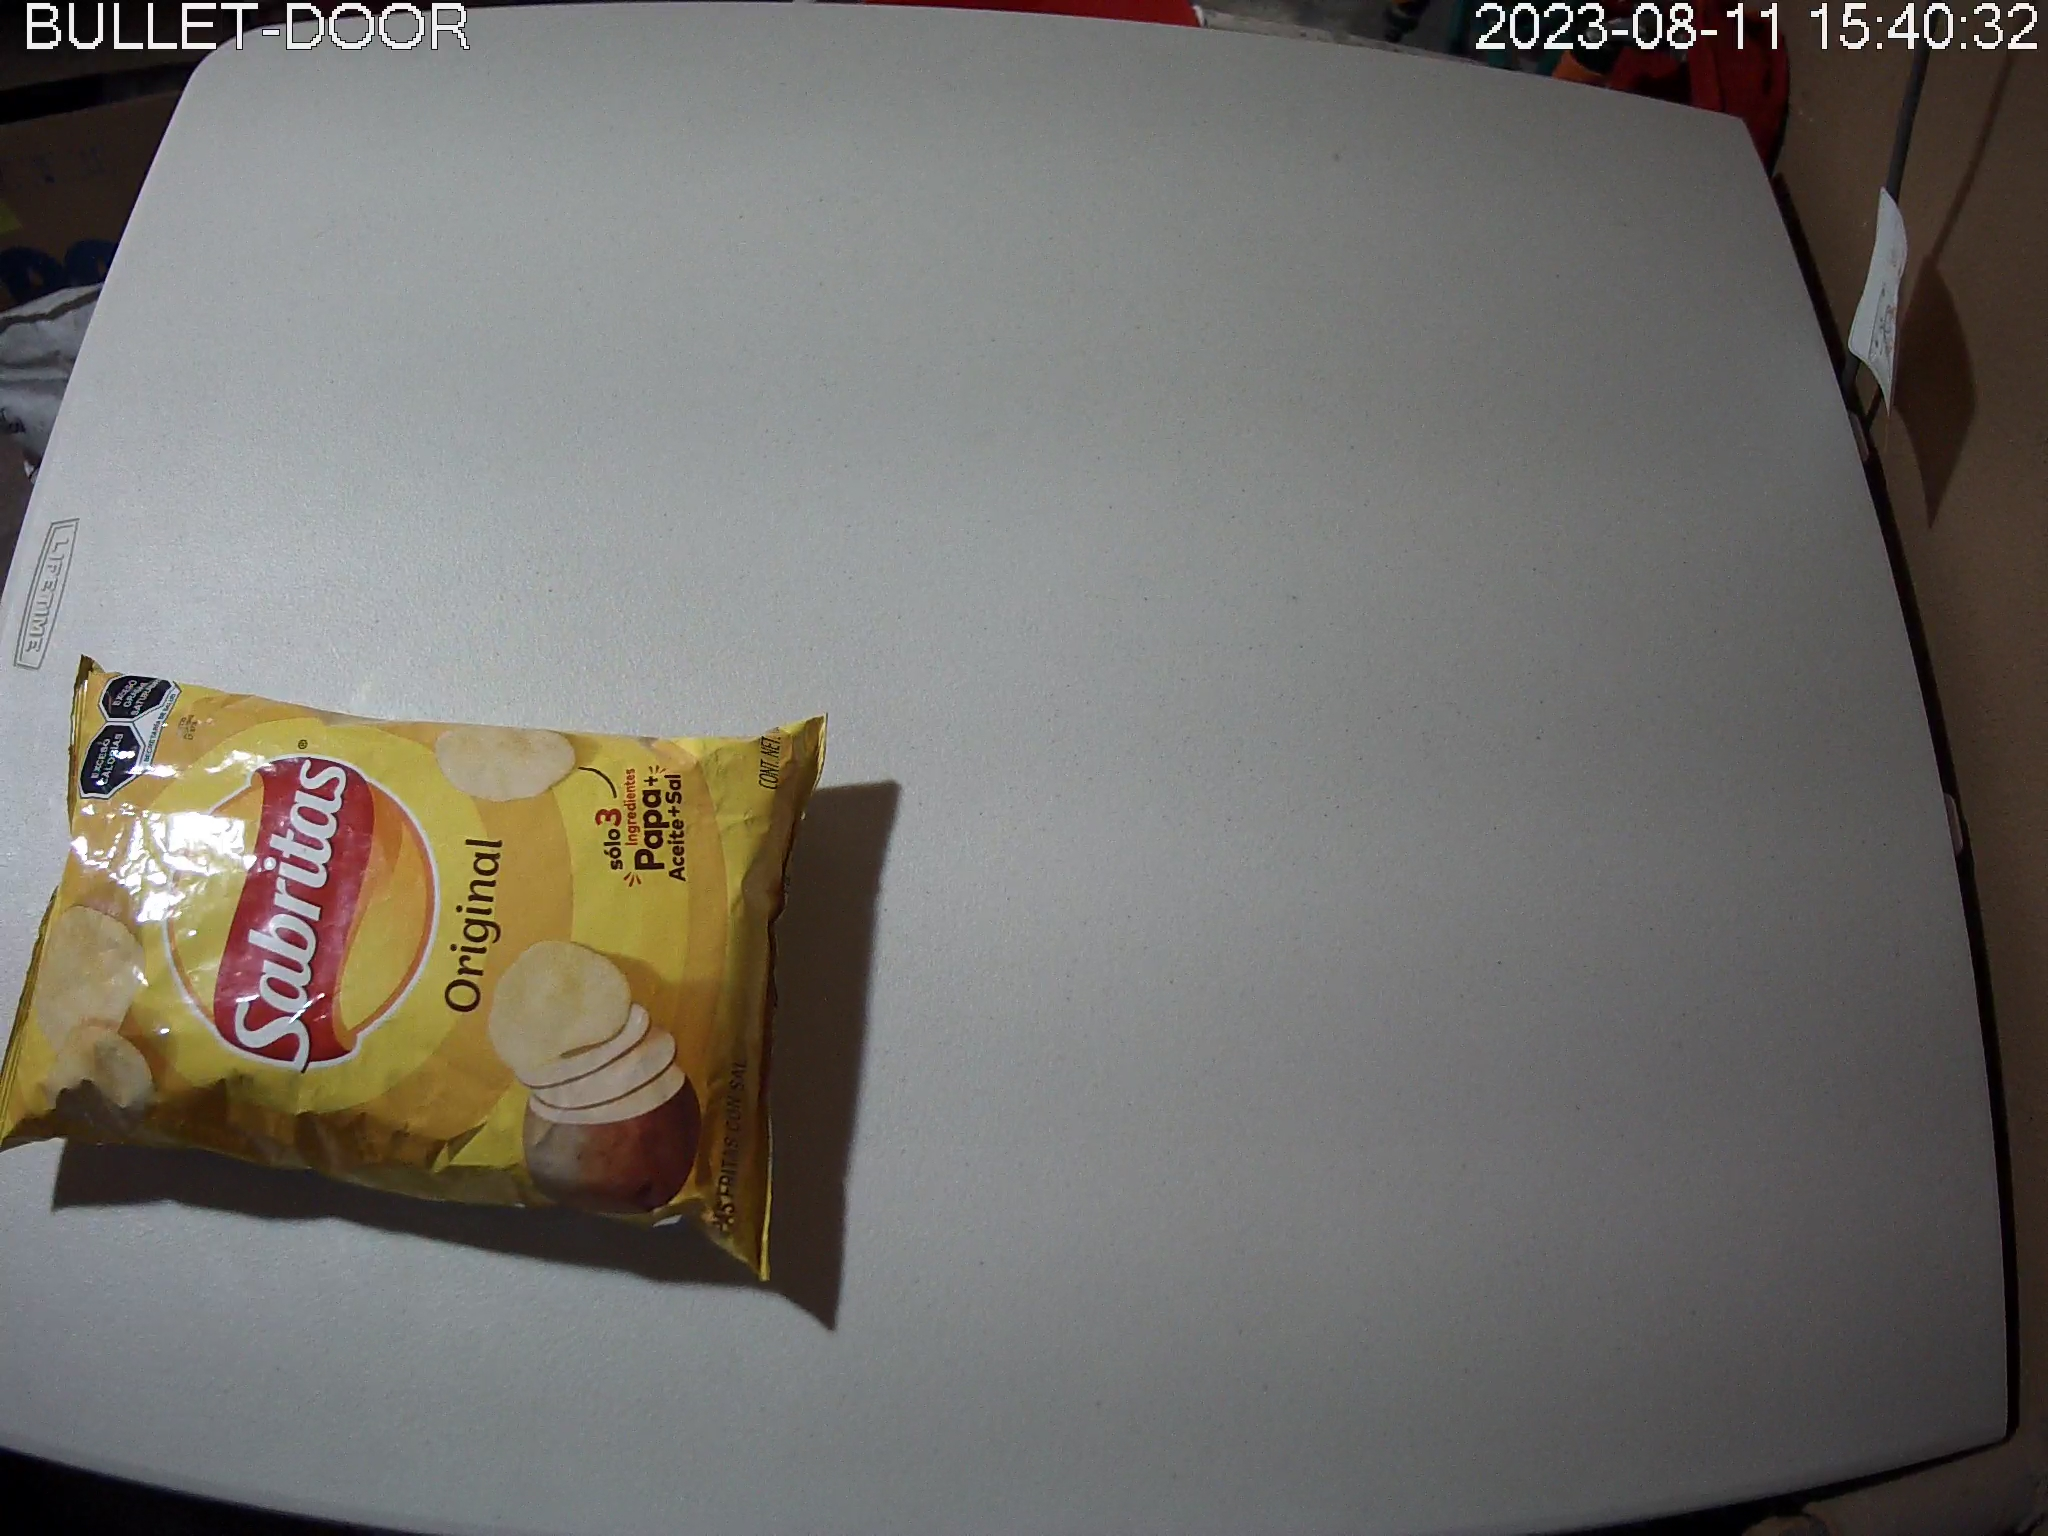Sabritas_160_F: (2, 650, 830, 1286)
